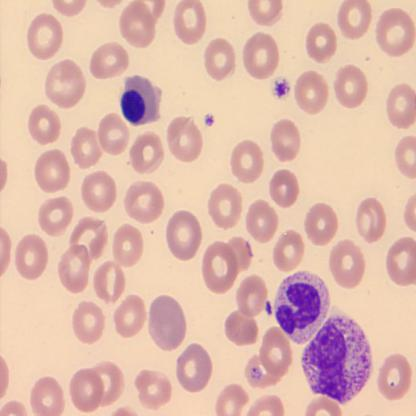NRC: (119, 74, 164, 129)
